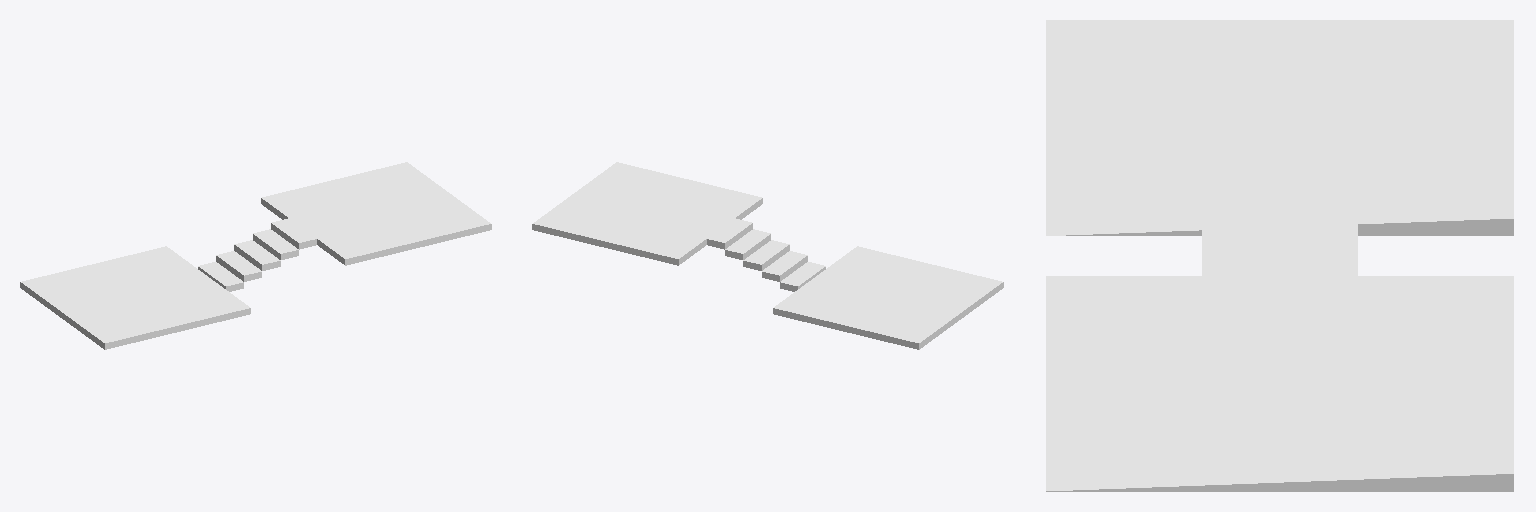
robot.urdf — stairs_3:
<robot name="stairs_3">
  <link name="base_link">
    <visual>
      <origin xyz="0 0 0" rpy="0 0 0" />
      <geometry>
        <mesh filename="package://hpp_environments/meshes/multicontact/daeun/stairs_3.stl"/>
      </geometry>
      <material name="white">
        <color rgba="1 1 1 1"/>
      </material>
    </visual>
    <collision>
      <origin xyz="0 0 0" rpy="0 0 0" />
      <geometry>
        <mesh filename="package://hpp_environments/meshes/multicontact/daeun/stairs_3.stl"/>
      </geometry>
    </collision>
  </link>
</robot>

--- Render facts (derived) ---
3 views of the same robot in one strip: view 1: azimuth 30°, elevation 25°; view 2: azimuth 150°, elevation 25°; view 3: azimuth 270°, elevation 25° (orthographic).
Robot: stairs_3 — 1 links, 0 joints (none); root link base_link; default pose: every joint at zero.
Links seen in each view (by area): view 1: base_link; view 2: base_link; view 3: base_link.
Link boxes in pixels (x1,y1,x2,y2): base_link: [20, 162, 491, 349]; base_link: [532, 162, 1003, 349]; base_link: [1046, 20, 1513, 491].
Size in the robot's own frame: 6.35 by 2.4 by 0.5 metres.
1 mesh visuals loaded from 1 distinct referenced files (1 binary STL).
